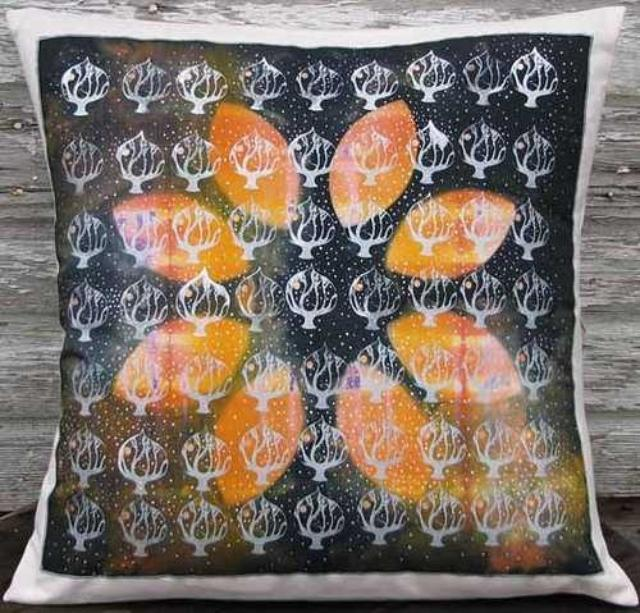pillow: (1, 2, 638, 608)
